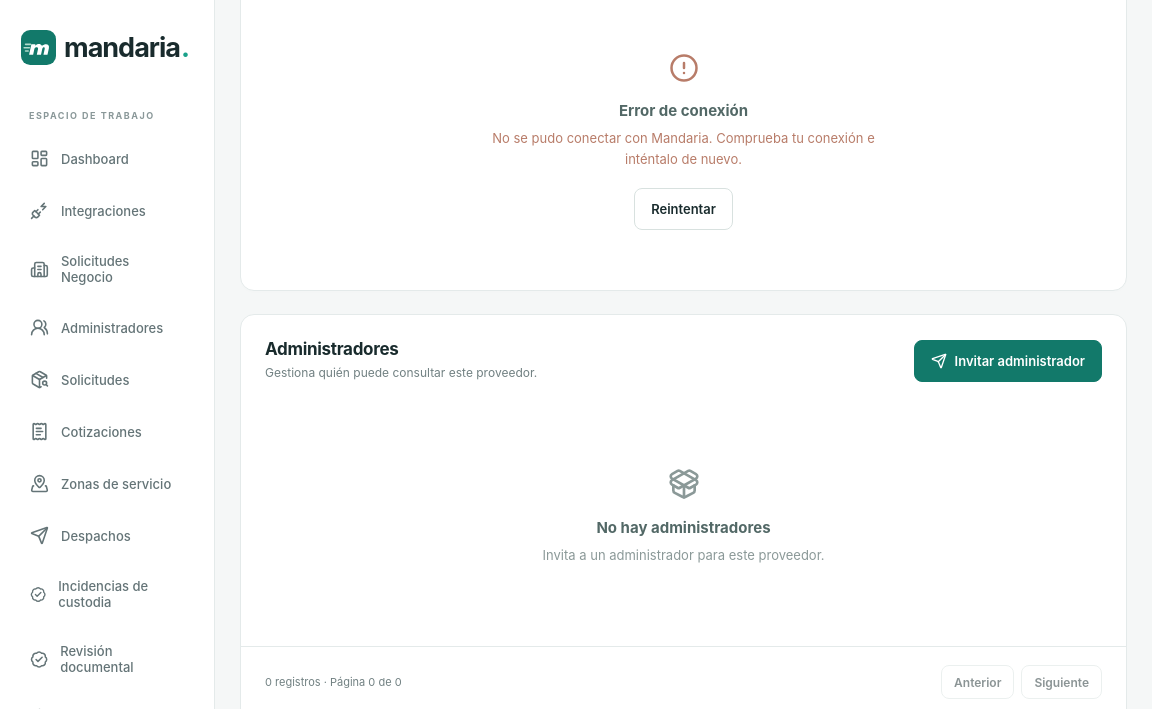
Test: SUPER_ADMIN accounts and admin invitations › shows a clear invite error for USER_INVITATION_PENDING (409)
The width and height of the screenshot is (1152, 709).
(page scrolled)
Click the button "Invitar administrador". click: [1008, 361]
box: top-left (914, 340), bottom-right (1102, 382)
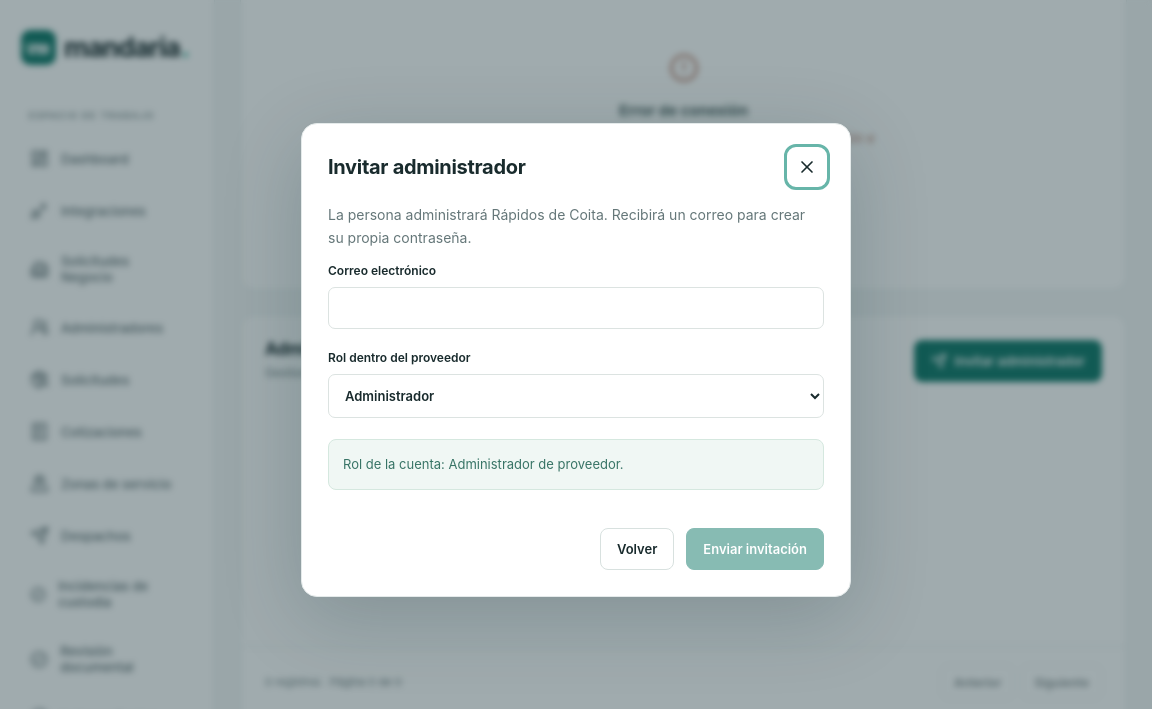
Type "ana@example.test" into the field labelled "Correo electrónico". click: [576, 308]
box: top-left (328, 287), bottom-right (824, 329)
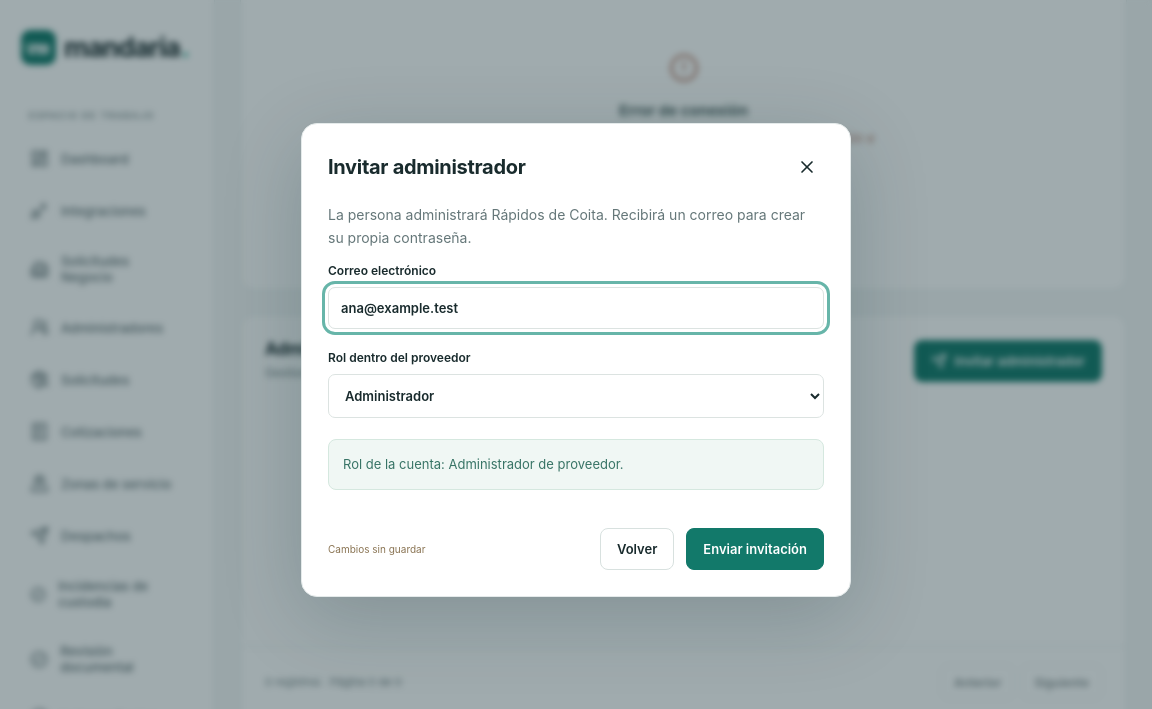
Click the button "Enviar invitación". click: [755, 549]
box: top-left (686, 528), bottom-right (824, 570)
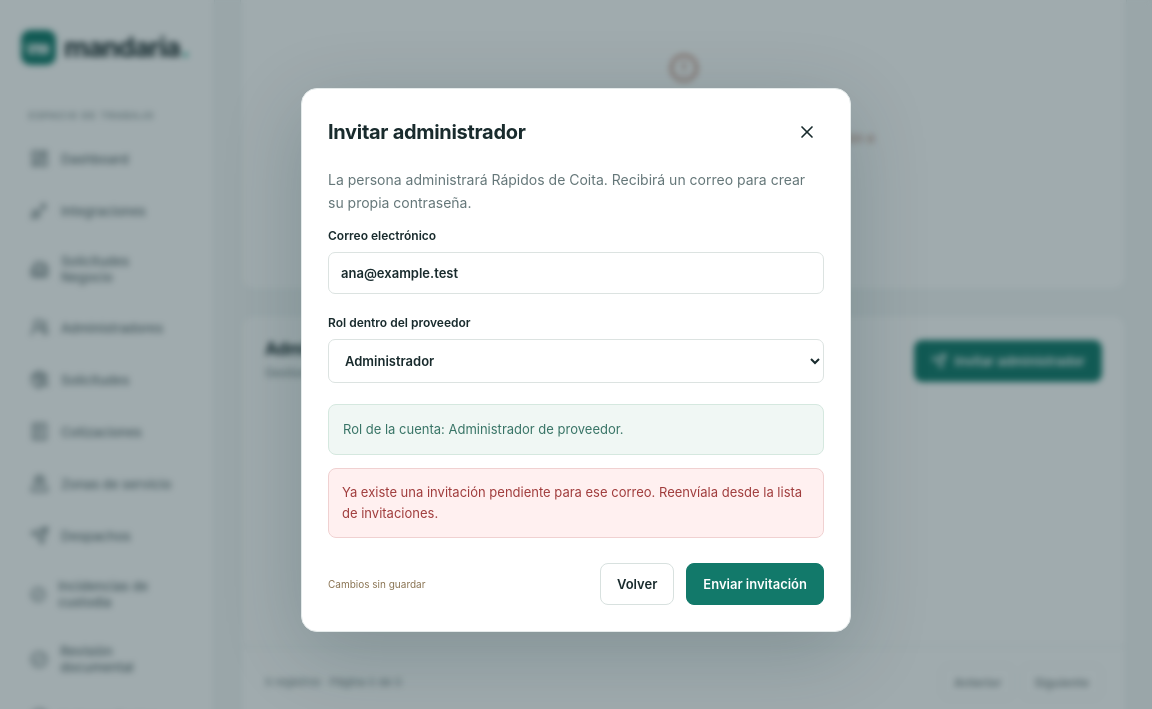
Expected: the message does not show "raw internal detail", top-left (328, 468), bottom-right (824, 538)
Expected: the message shows "Ya existe una invitación pendiente", top-left (342, 484), bottom-right (802, 521)
